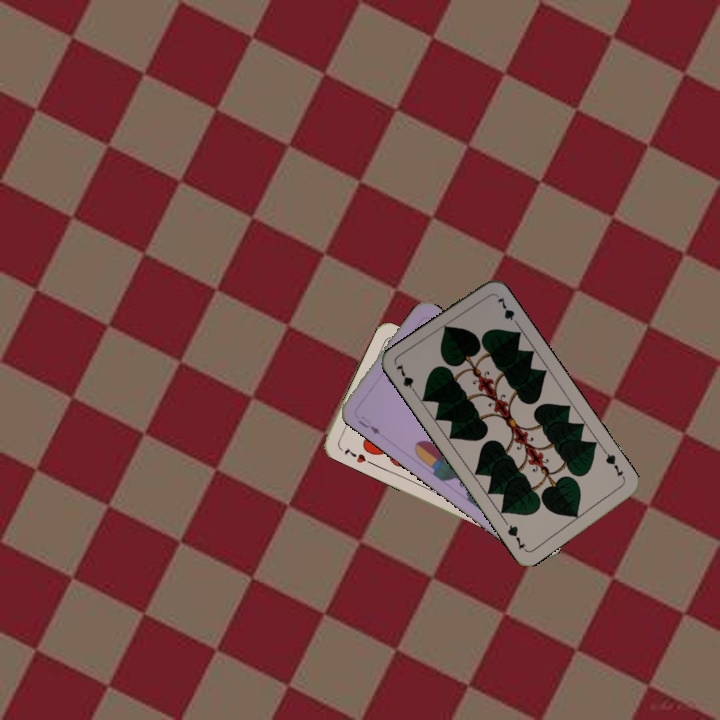EU: (354, 413, 383, 437)
G7: (392, 360, 420, 398), (600, 447, 628, 483)
H7: (340, 444, 369, 466)
